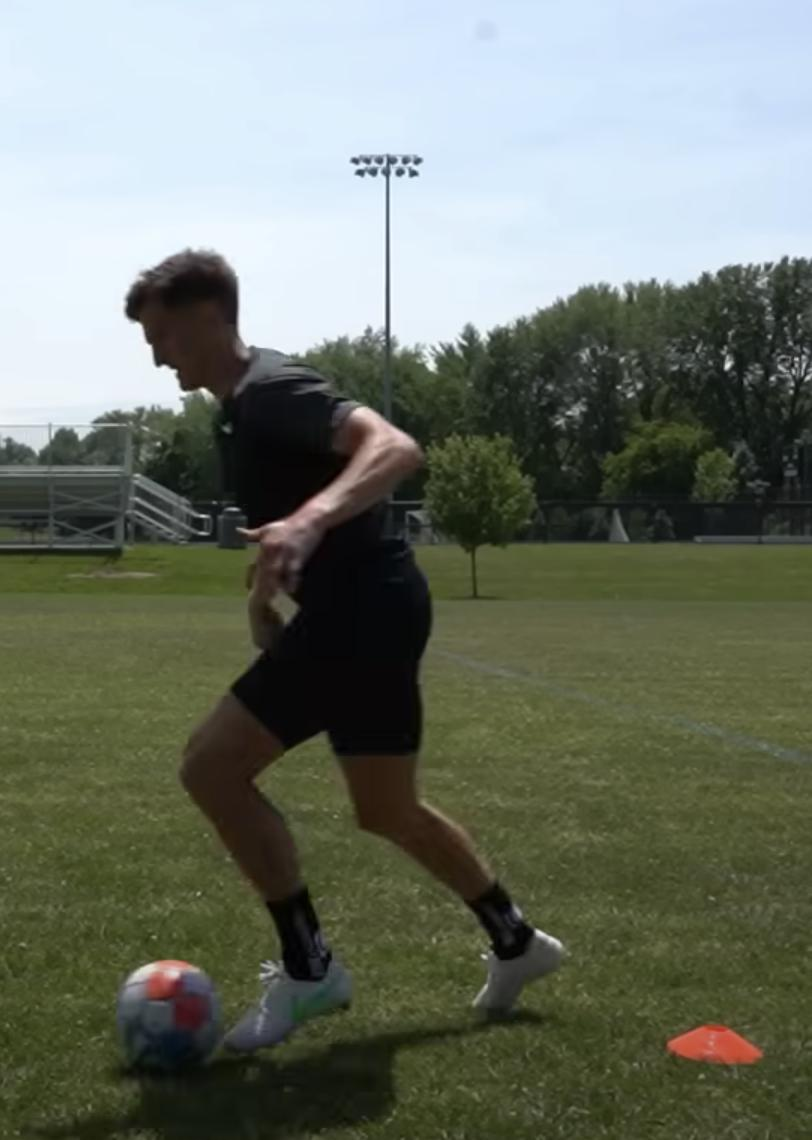ball: (116, 961, 221, 1073)
foot: (226, 953, 355, 1049), (471, 925, 565, 1016)
person: (129, 241, 564, 1052)
